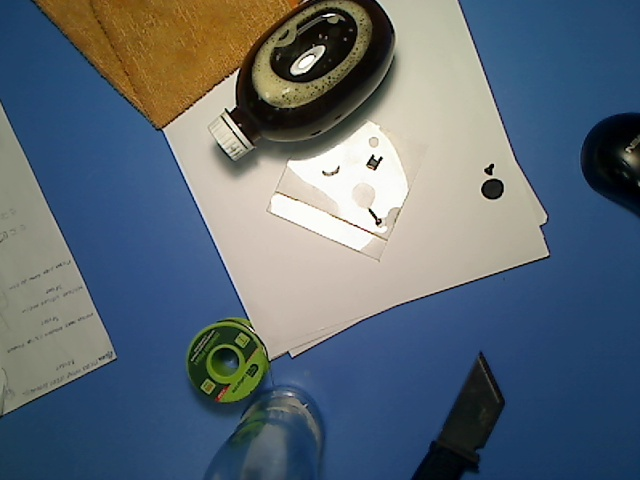plast_bottle: (206, 1, 403, 163)
